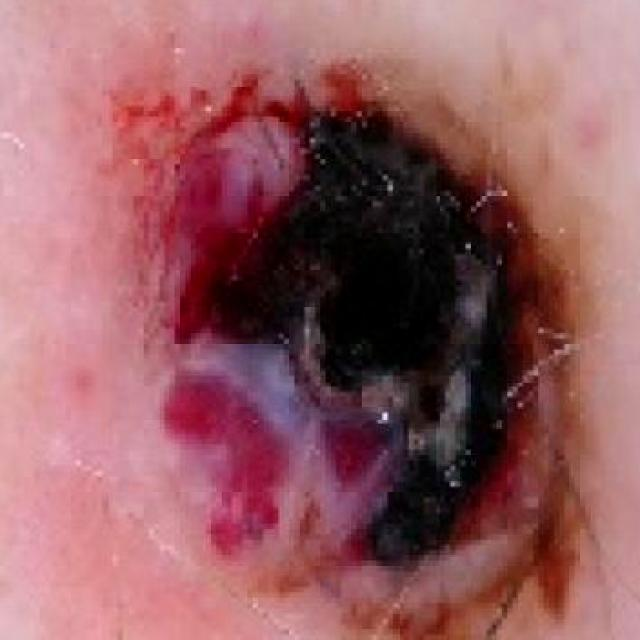VASC: (92, 16, 640, 640)
